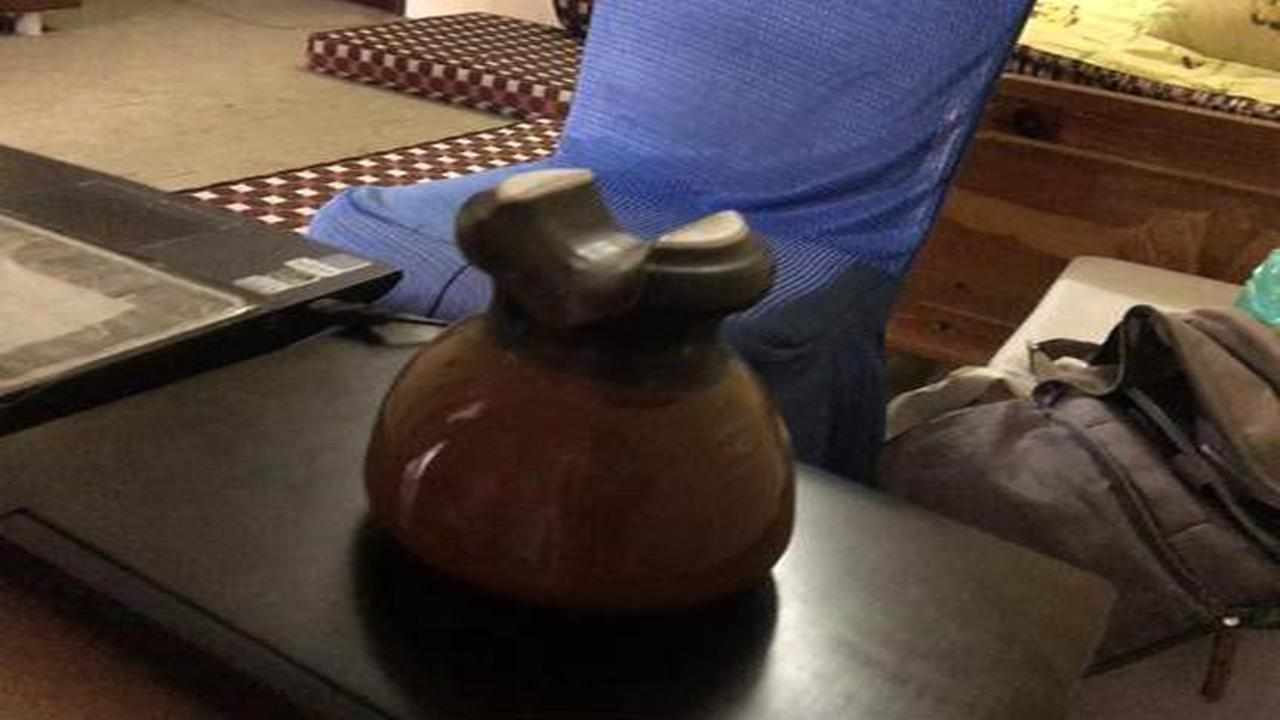insulator_pin: (345, 151, 810, 627)
